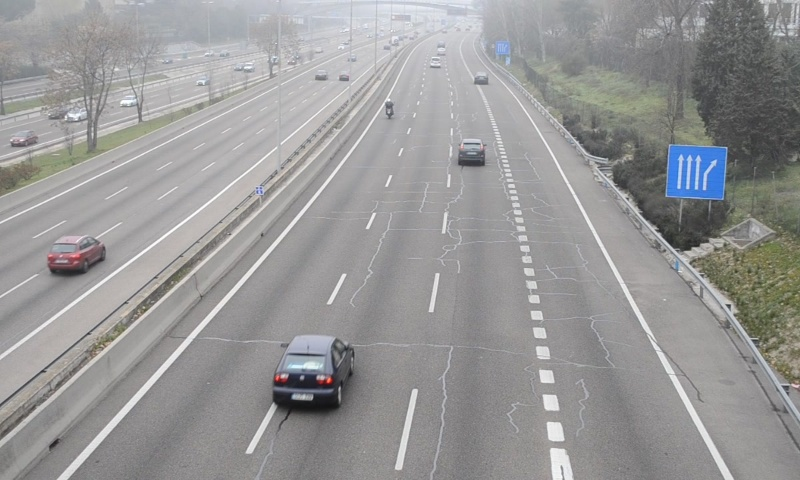car: (272, 334, 356, 412), (458, 138, 486, 166), (474, 72, 488, 85)
motorcycle: (384, 97, 396, 120)
